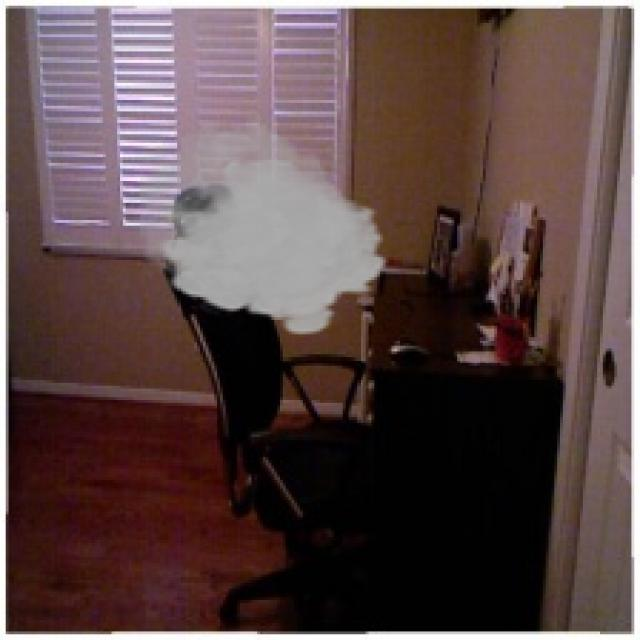smoke: (140, 112, 391, 337)
